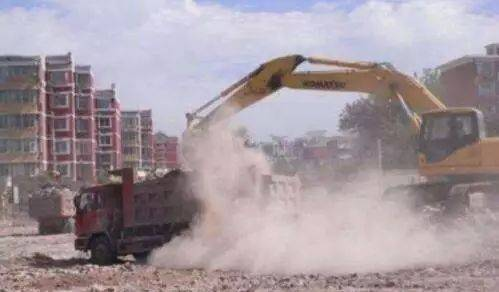dust: (188, 126, 464, 267)
